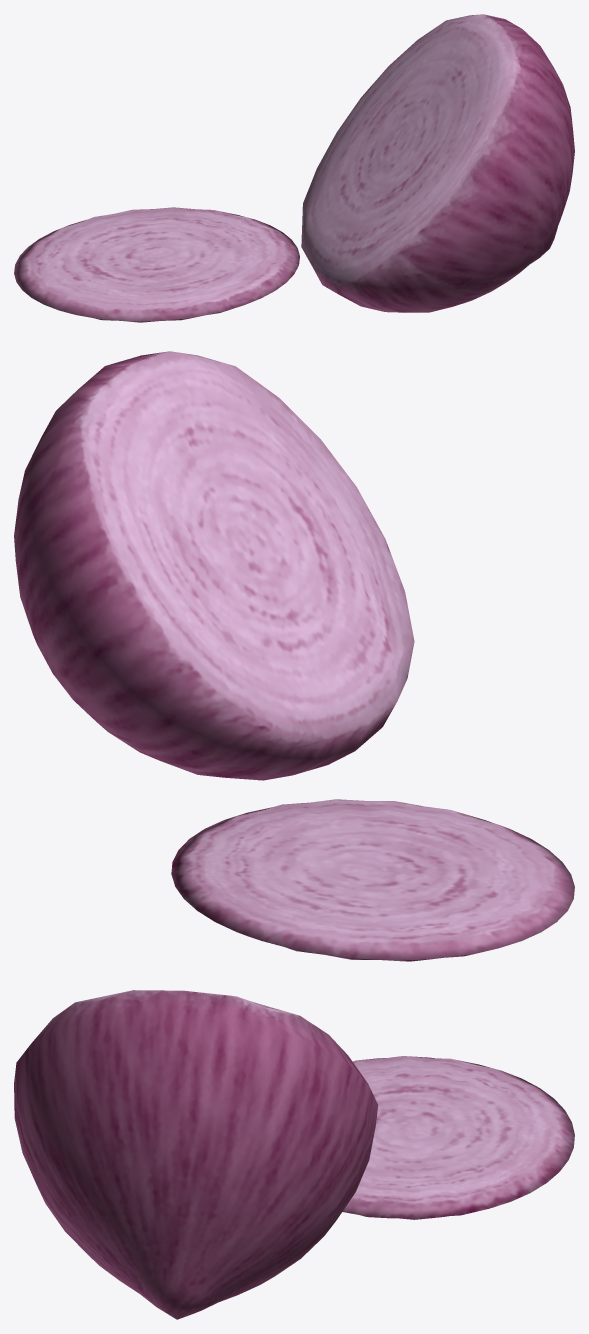
The model's file is PR_onionSliced_01.fbx.
3 renders of one model, top to bottom at view 1: azimuth 30°, elevation 25°; view 2: azimuth 150°, elevation 25°; view 3: azimuth 270°, elevation 25°, orthographic. The views are drawn at different scales.
Visible parts, largest first — view 1: Onion__2, Onion_slice_; view 2: Onion__2, Onion_slice_; view 3: Onion__2, Onion_slice_.
Part boxes in pixels (x1,y1,x2,y2): Onion__2: (301,14,574,312); Onion_slice_: (14,207,299,322); Onion__2: (14,351,414,780); Onion_slice_: (171,799,574,961); Onion__2: (14,990,378,1319); Onion_slice_: (342,1056,574,1219).
Bounding box in the file's own units: 2694 × 1491 × 2258.
Materials: 1 (1 with a texture image).
